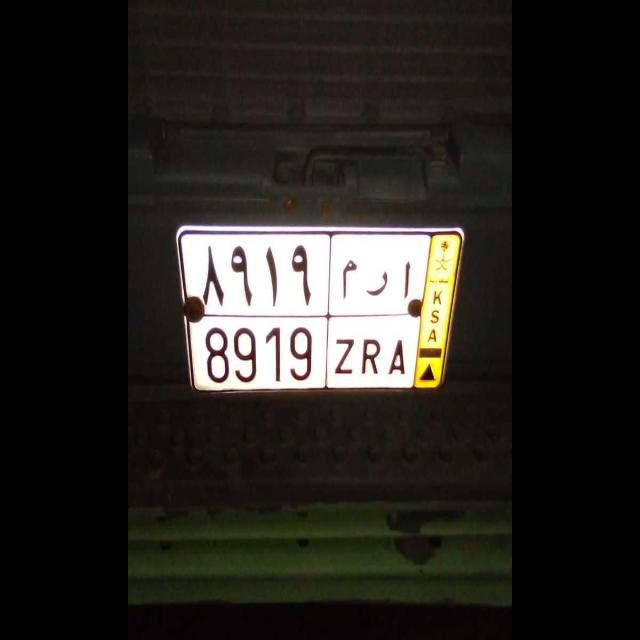license_plate: (191, 312, 418, 400)
